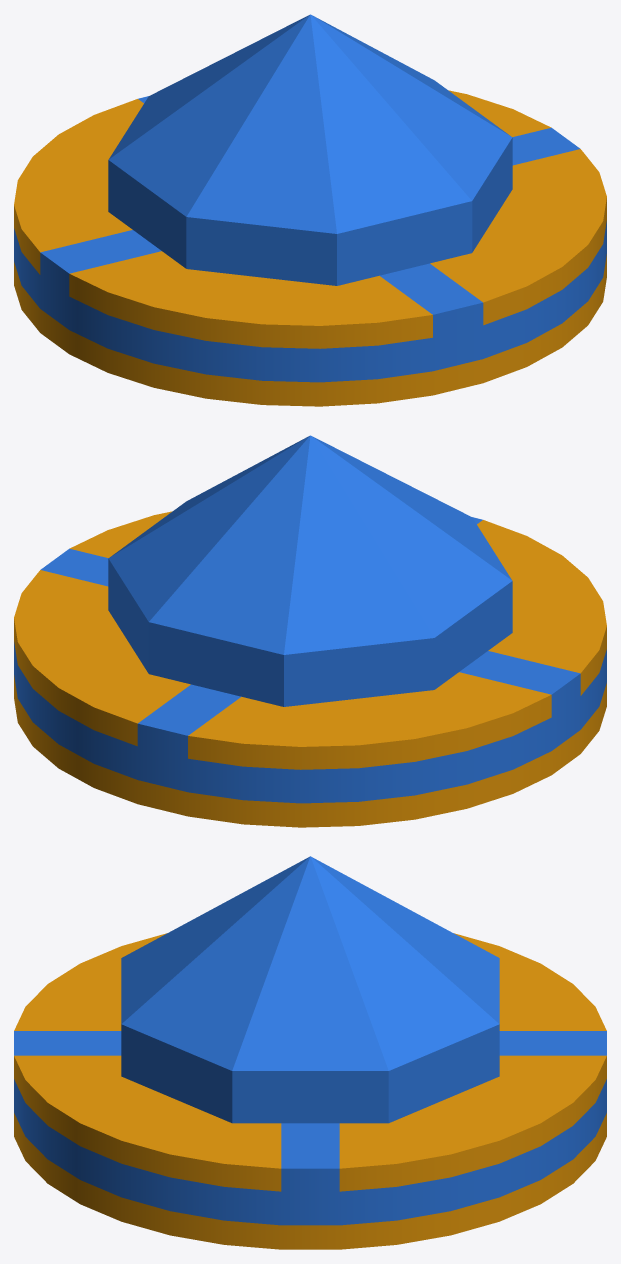
Rendered from LP_Emitter.fbx.
3 renders of one model, top to bottom at view 1: azimuth 30°, elevation 25°; view 2: azimuth 150°, elevation 25°; view 3: azimuth 270°, elevation 25°, orthographic.
Parts seen in each view (by area): view 1: Cylinder; view 2: Cylinder; view 3: Cylinder.
Part boxes in pixels (<box>): Cylinder: <box>14,14,606,406</box>; Cylinder: <box>14,435,606,827</box>; Cylinder: <box>14,856,606,1249</box>.
Bounding box in the file's own units: 1.99 × 0.9931 × 1.99.
